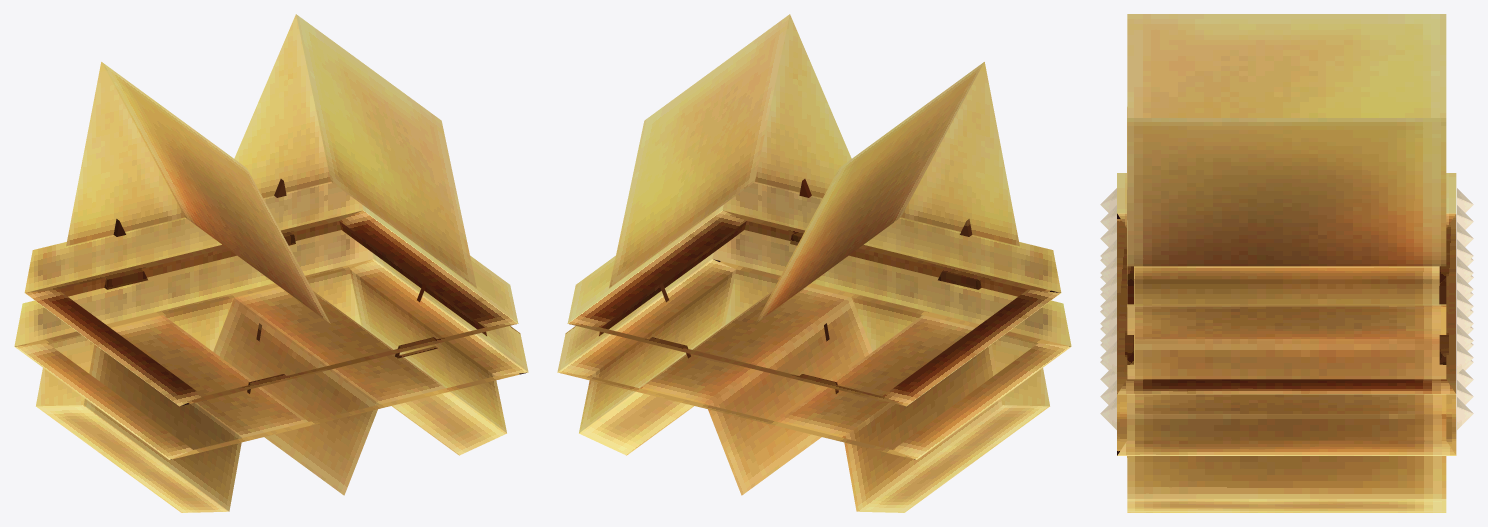
The model's file is ps2_save-icons_monopoly.glb.
3 renders of one model, left to right at view 1: azimuth 30°, elevation 25°; view 2: azimuth 150°, elevation 25°; view 3: azimuth 270°, elevation 25°, orthographic. The views are drawn at different scales.
Parts seen in each view (by area): view 1: GOFPS2ICON.ico; view 2: GOFPS2ICON.ico; view 3: GOFPS2ICON.ico.
Boxes of the visible parts, x1,y1,x2,y2 form: GOFPS2ICON.ico: (14, 14, 528, 512); GOFPS2ICON.ico: (557, 14, 1071, 512); GOFPS2ICON.ico: (1100, 14, 1473, 512).
Size of the model in its own units: 4.92 by 4.6 by 4.05.
1 material, 1 textured.
